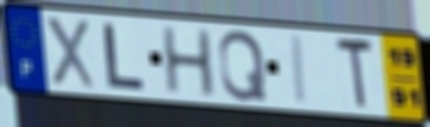H: (159, 25, 219, 100)
I: (291, 33, 310, 108)
L: (100, 21, 148, 93)
Q: (216, 28, 269, 103)
T: (333, 34, 376, 112)
X: (42, 14, 98, 91)
